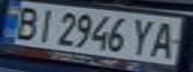2: (54, 9, 78, 47)
4: (90, 12, 115, 52)
6: (106, 15, 133, 53)
9: (72, 11, 93, 50)
A: (145, 18, 184, 60)
B: (6, 3, 42, 42)
I: (30, 7, 60, 43)
Y: (127, 16, 160, 56)
